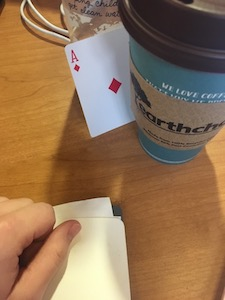AceOfDiamonds: (62, 27, 138, 140)
